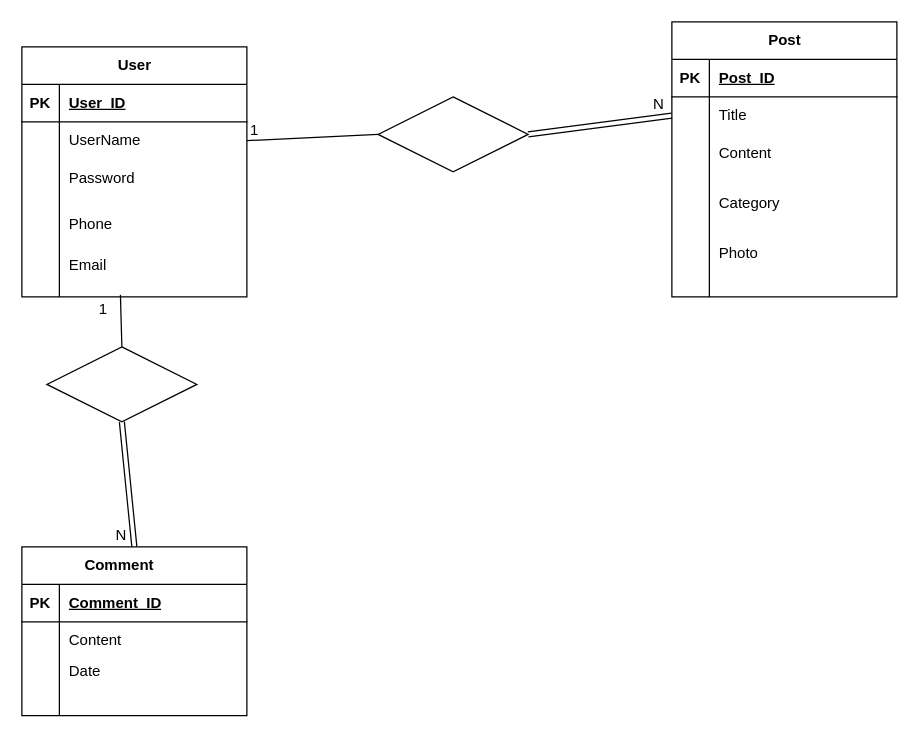
This 919x738 diagram has some shape labels left out. Each missing label, with the centre of its shape:
"Share" goes at point (452, 134).
"Write" goes at point (121, 384).
